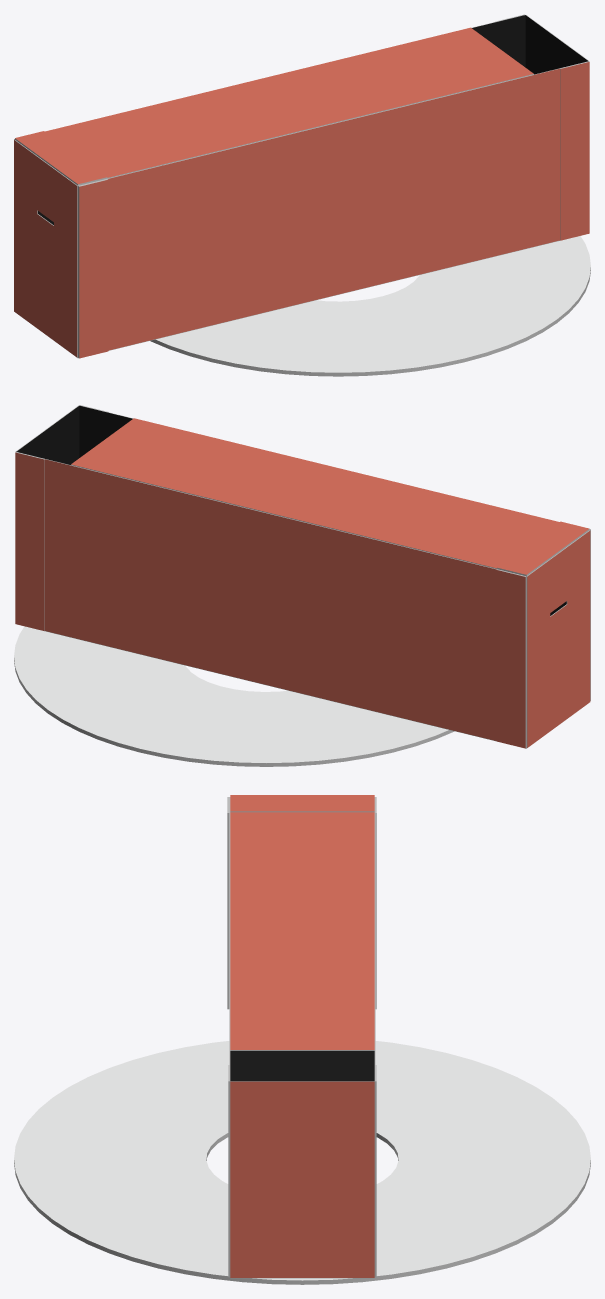
Rendered from spectrometer2.glb.
The picture shows the model from 3 angles, top to bottom: view 1: azimuth 30°, elevation 25°; view 2: azimuth 150°, elevation 25°; view 3: azimuth 270°, elevation 25°; orthographic projection. The views are drawn at different scales.
Parts seen in each view (by area): view 1: ボディ1.005, ボディ1.003, ボディ1.009, ボディ1.002, ボディ1.011, ボディ1.006, ボディ1.001, ボディ1.010, ボディ1.004; view 2: ボディ1.004, ボディ1.003, ボディ1.009, ボディ1.002, ボディ1.007, ボディ1.008, ボディ1.001, ボディ1.010, ボディ1.006; view 3: ボディ1.003, ボディ1.009, ボディ1.001, ボディ1, ボディ1.010, ボディ1.004, ボディ1.011.
Boxes of the visible parts, box(x1,y1,x2,y2) form: ボディ1.005: box(78, 61, 588, 357); ボディ1.003: box(150, 236, 590, 376); ボディ1.009: box(15, 27, 533, 185); ボディ1.002: box(14, 139, 77, 357); ボディ1.011: box(78, 179, 108, 358); ボディ1.006: box(560, 61, 589, 240); ボディ1.001: box(525, 15, 589, 74); ボディ1.010: box(15, 131, 107, 185); ボディ1.004: box(38, 15, 525, 225); ボディ1.004: box(16, 452, 496, 740); ボディ1.003: box(14, 626, 454, 766); ボディ1.009: box(71, 418, 589, 576); ボディ1.002: box(526, 530, 590, 747); ボディ1.007: box(496, 569, 526, 748); ボディ1.008: box(15, 452, 44, 630); ボディ1.001: box(15, 405, 79, 464); ボディ1.010: box(497, 521, 589, 575); ボディ1.006: box(79, 405, 108, 457); ボディ1.003: box(14, 1041, 590, 1284); ボディ1.009: box(230, 812, 374, 1050); ボディ1.001: box(230, 1081, 374, 1277); ボディ1: box(230, 1051, 374, 1278); ボディ1.010: box(230, 795, 374, 812); ボディ1.004: box(374, 813, 375, 1277); ボディ1.011: box(227, 797, 229, 1009).
Size of the model in its own units: 0.1404 by 0.0471 by 0.12.
